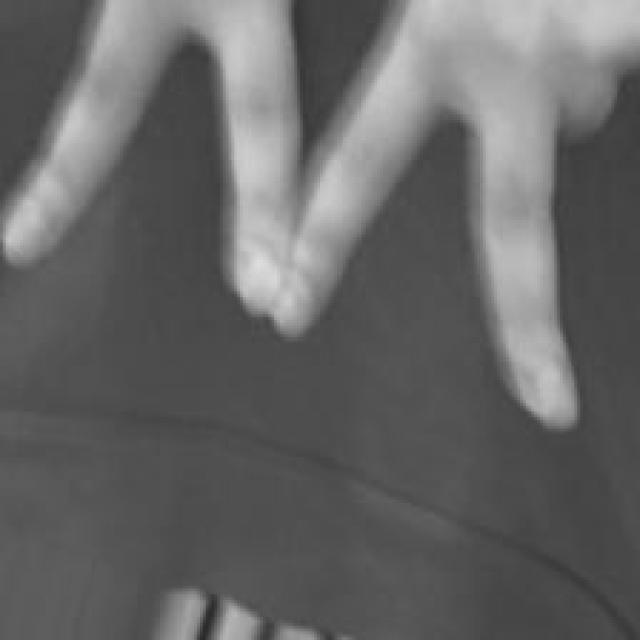M: (0, 0, 640, 440)
